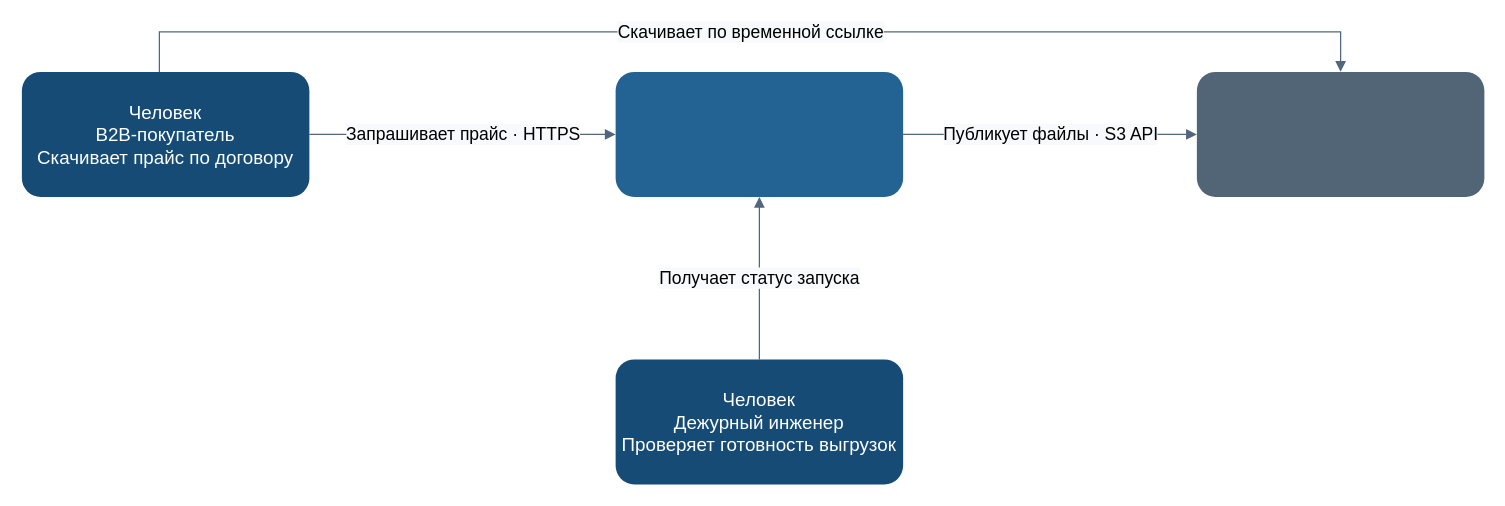
This 1505x506 diagram has some shape labels left out. Here are the shapes that lost their labels. From the top down, the centre of each, then its label:
At (x=758, y=133): "Система Онлайн-магазин Готовит личные прайсы в 06:00".
At (x=1340, y=133): "Внешняя система Объектное хранилище Хранит закрытые CSV и XLS".
